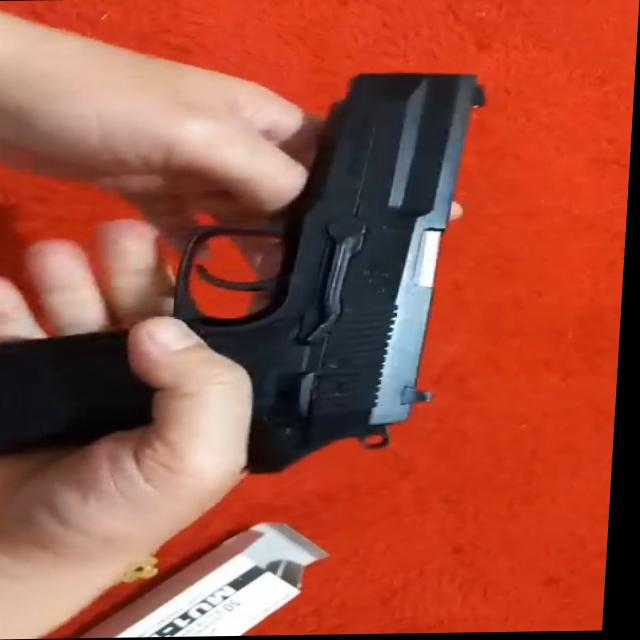handgun: (0, 60, 495, 456)
